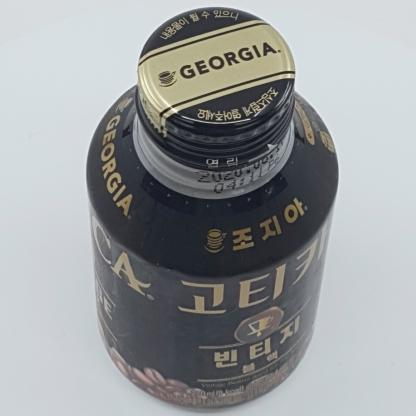---------------270ML: (86, 7, 339, 409)
